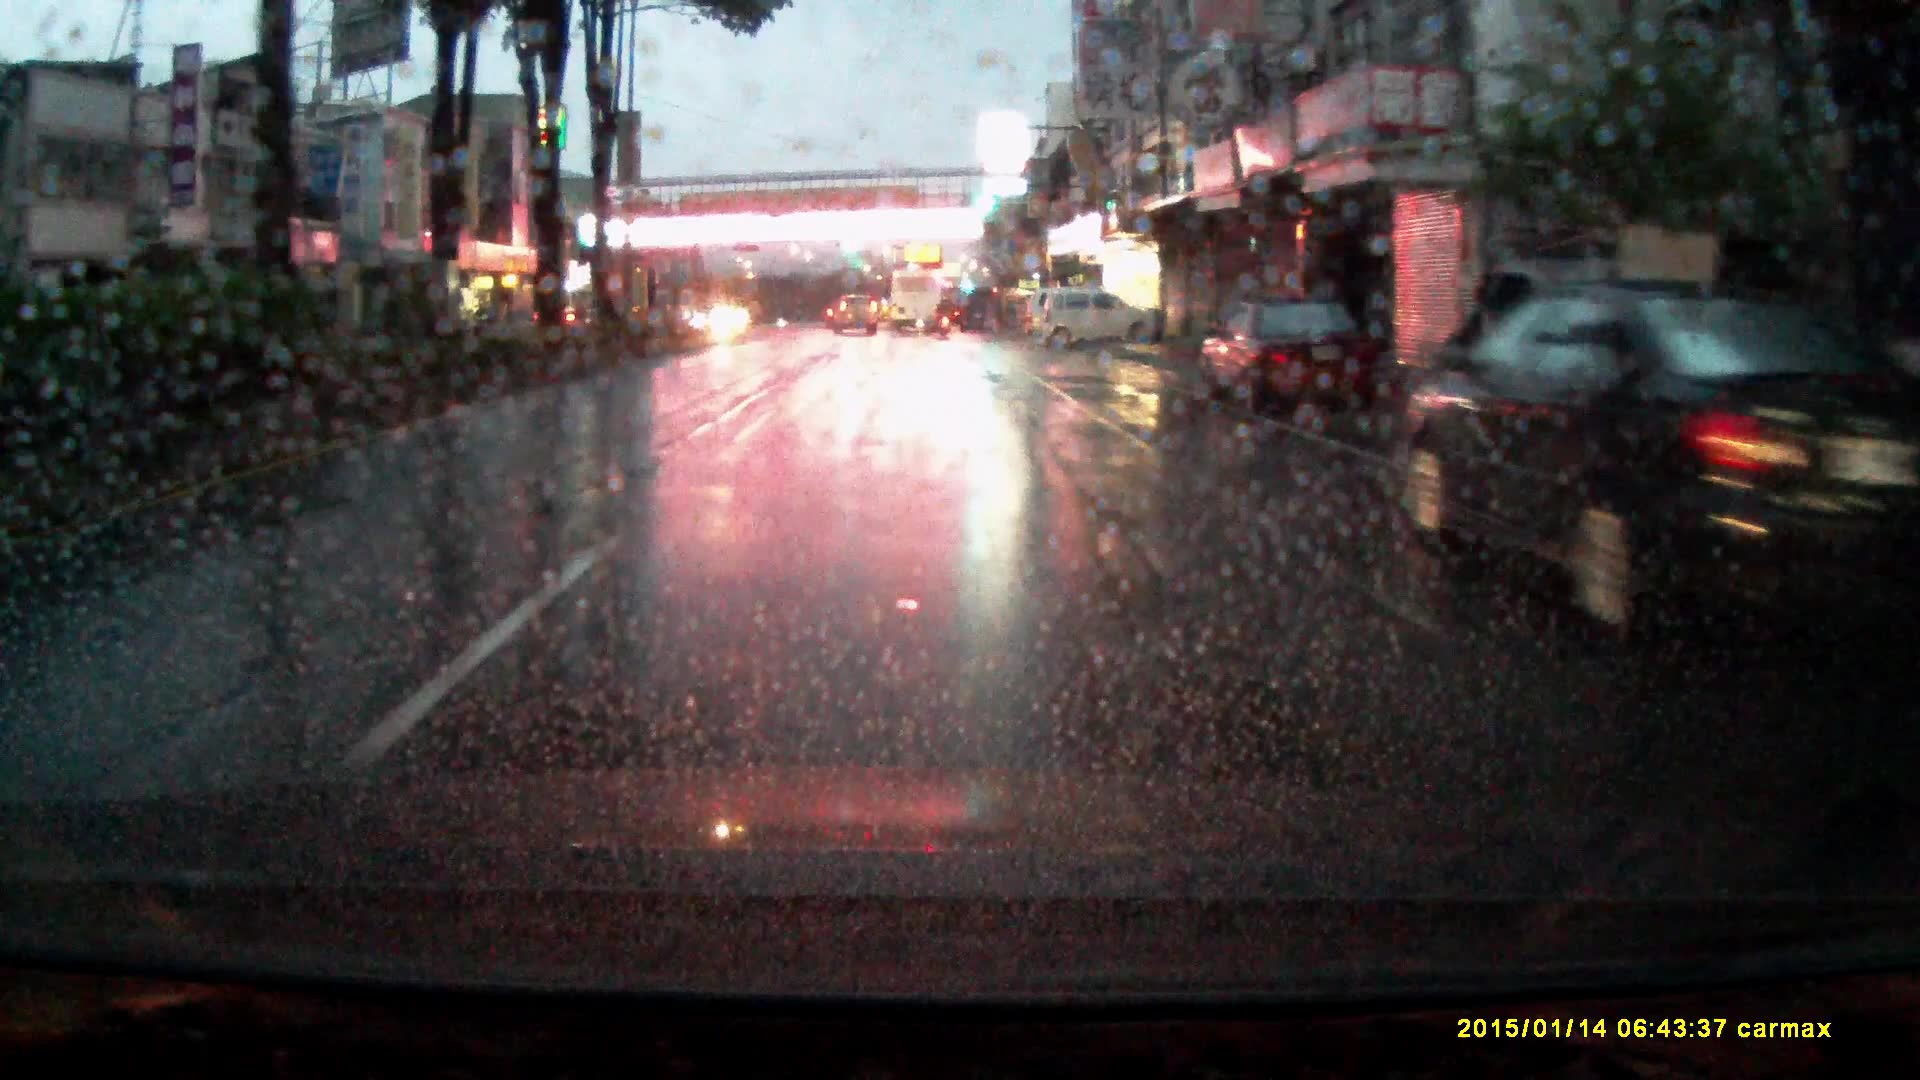vehicle: (1386, 277, 1862, 680), (1203, 303, 1398, 430), (1040, 291, 1159, 353), (887, 273, 943, 332), (833, 295, 880, 338)
